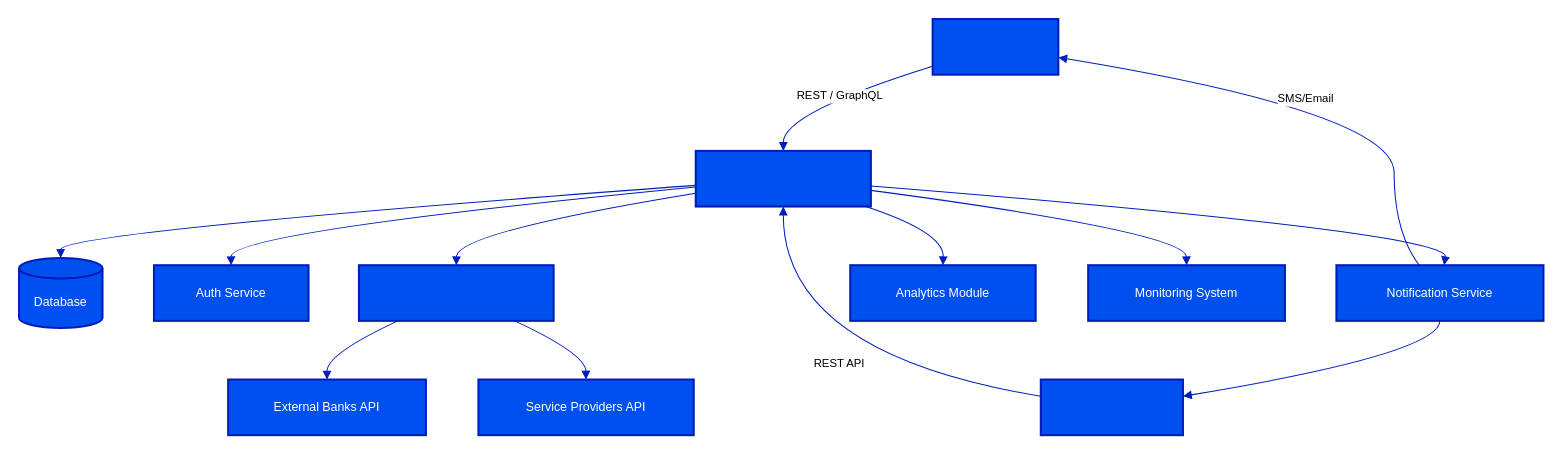
Image size: 1561x453. Some labels were removed from this diagram. Each missing label, with the box of its shape:
Backend Server: (694, 149, 871, 207)
Mobile App: (1039, 378, 1183, 436)
Payment Gateway: (357, 264, 554, 321)
Web App: (931, 18, 1059, 75)
